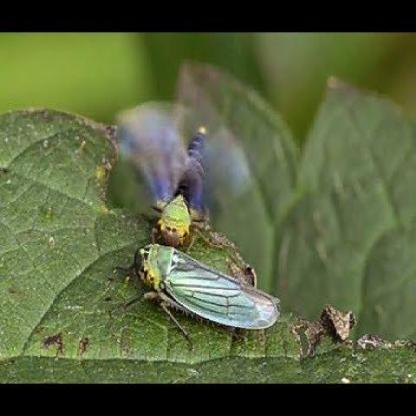Green-Leafhopper: (117, 237, 286, 343), (146, 122, 212, 249)
